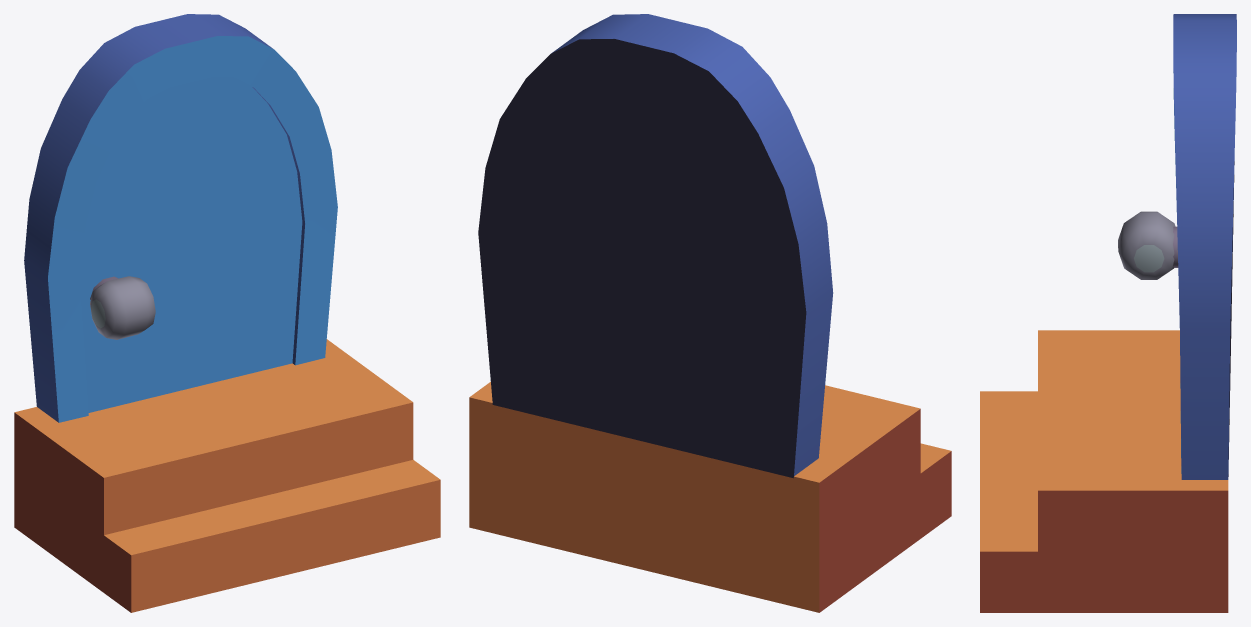
Rendered from Door03_Blue_Wood.glb.
The picture shows the model from 3 angles, left to right: view 1: azimuth 30°, elevation 25°; view 2: azimuth 150°, elevation 25°; view 3: azimuth 270°, elevation 25°; orthographic projection. The views are drawn at different scales.
Parts seen in each view (by area): view 1: Door03_Blue_Wood; view 2: Door03_Blue_Wood; view 3: Door03_Blue_Wood.
Part boxes in pixels (box(x1,y1,x2,y2)): Door03_Blue_Wood: box(14, 14, 440, 612); Door03_Blue_Wood: box(469, 14, 951, 612); Door03_Blue_Wood: box(980, 14, 1236, 612).
Size of the model in its own units: 0.9795 by 1.41 by 0.6625.
Materials: 1 (1 with a texture image).
